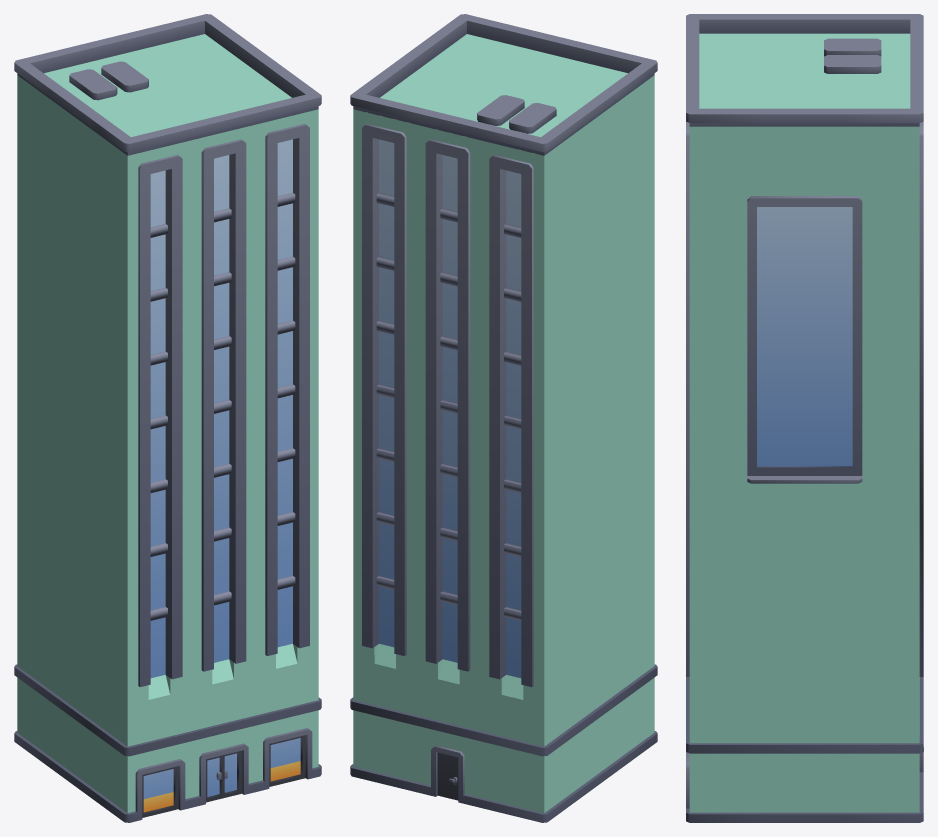
The model's file is skyscraperB1.glb.
The picture shows the model from 3 angles, left to right: view 1: azimuth 30°, elevation 25°; view 2: azimuth 150°, elevation 25°; view 3: azimuth 270°, elevation 25°; orthographic projection. The views are drawn at different scales.
Parts seen in each view (by area): view 1: skyscraperB1; view 2: skyscraperB1; view 3: skyscraperB1.
Boxes of the visible parts, x1,y1,x2,y2 form: skyscraperB1: [14, 14, 321, 822]; skyscraperB1: [350, 14, 657, 822]; skyscraperB1: [686, 14, 923, 822].
Size of the model in its own units: 1.29 by 4.08 by 1.24.
Materials: 2 (1 with a texture image).
